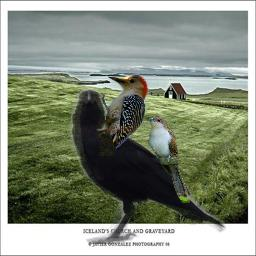Crow: (69, 88, 226, 244)
Cuckoo: (146, 116, 190, 203)
Woodpecker: (96, 70, 159, 156)
